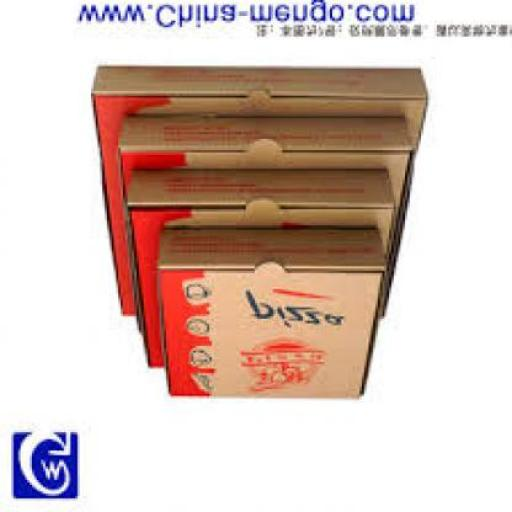cardboard: (89, 66, 428, 318), (119, 114, 414, 336), (123, 171, 391, 371), (155, 228, 384, 400)
